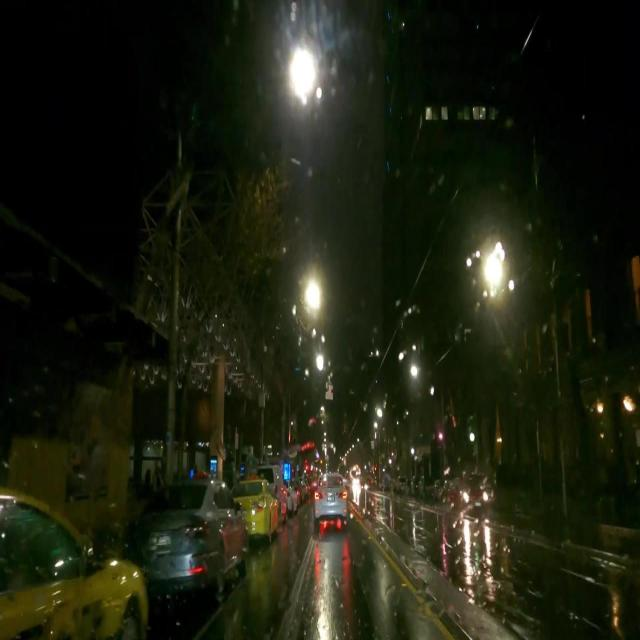Car: (133, 476, 245, 599), (238, 480, 277, 534), (313, 468, 345, 520)
